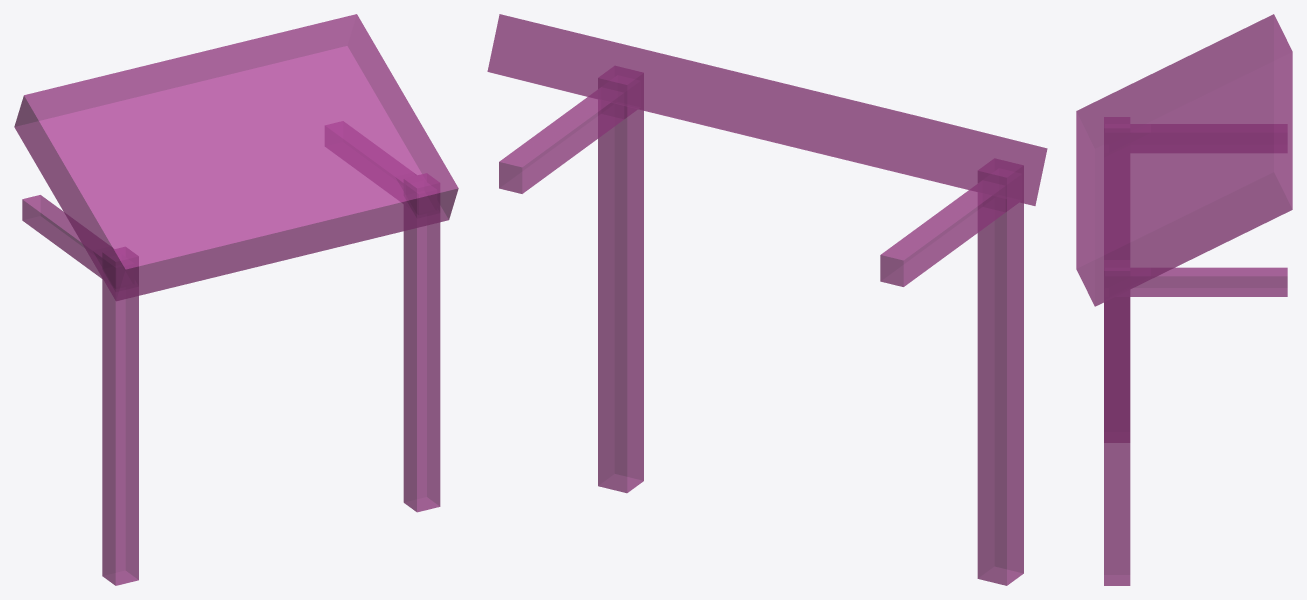
The model's file is SM_Bld_Awning_04_Collision_01.fbx.
3 views of the same model, side by side, from view 1: azimuth 30°, elevation 25°; view 2: azimuth 150°, elevation 25°; view 3: azimuth 270°, elevation 25° (orthographic). The views are drawn at different scales.
Parts seen in each view (by area): view 1: SM_Bld_Awning_04_Collision_01; view 2: SM_Bld_Awning_04_Collision_01; view 3: SM_Bld_Awning_04_Collision_01.
Boxes of the visible parts, x1,y1,x2,y2 form: SM_Bld_Awning_04_Collision_01: (14,14,458,585); SM_Bld_Awning_04_Collision_01: (487,14,1047,585); SM_Bld_Awning_04_Collision_01: (1076,14,1292,585).
Size of the model in its own units: 241 by 296 by 140.
